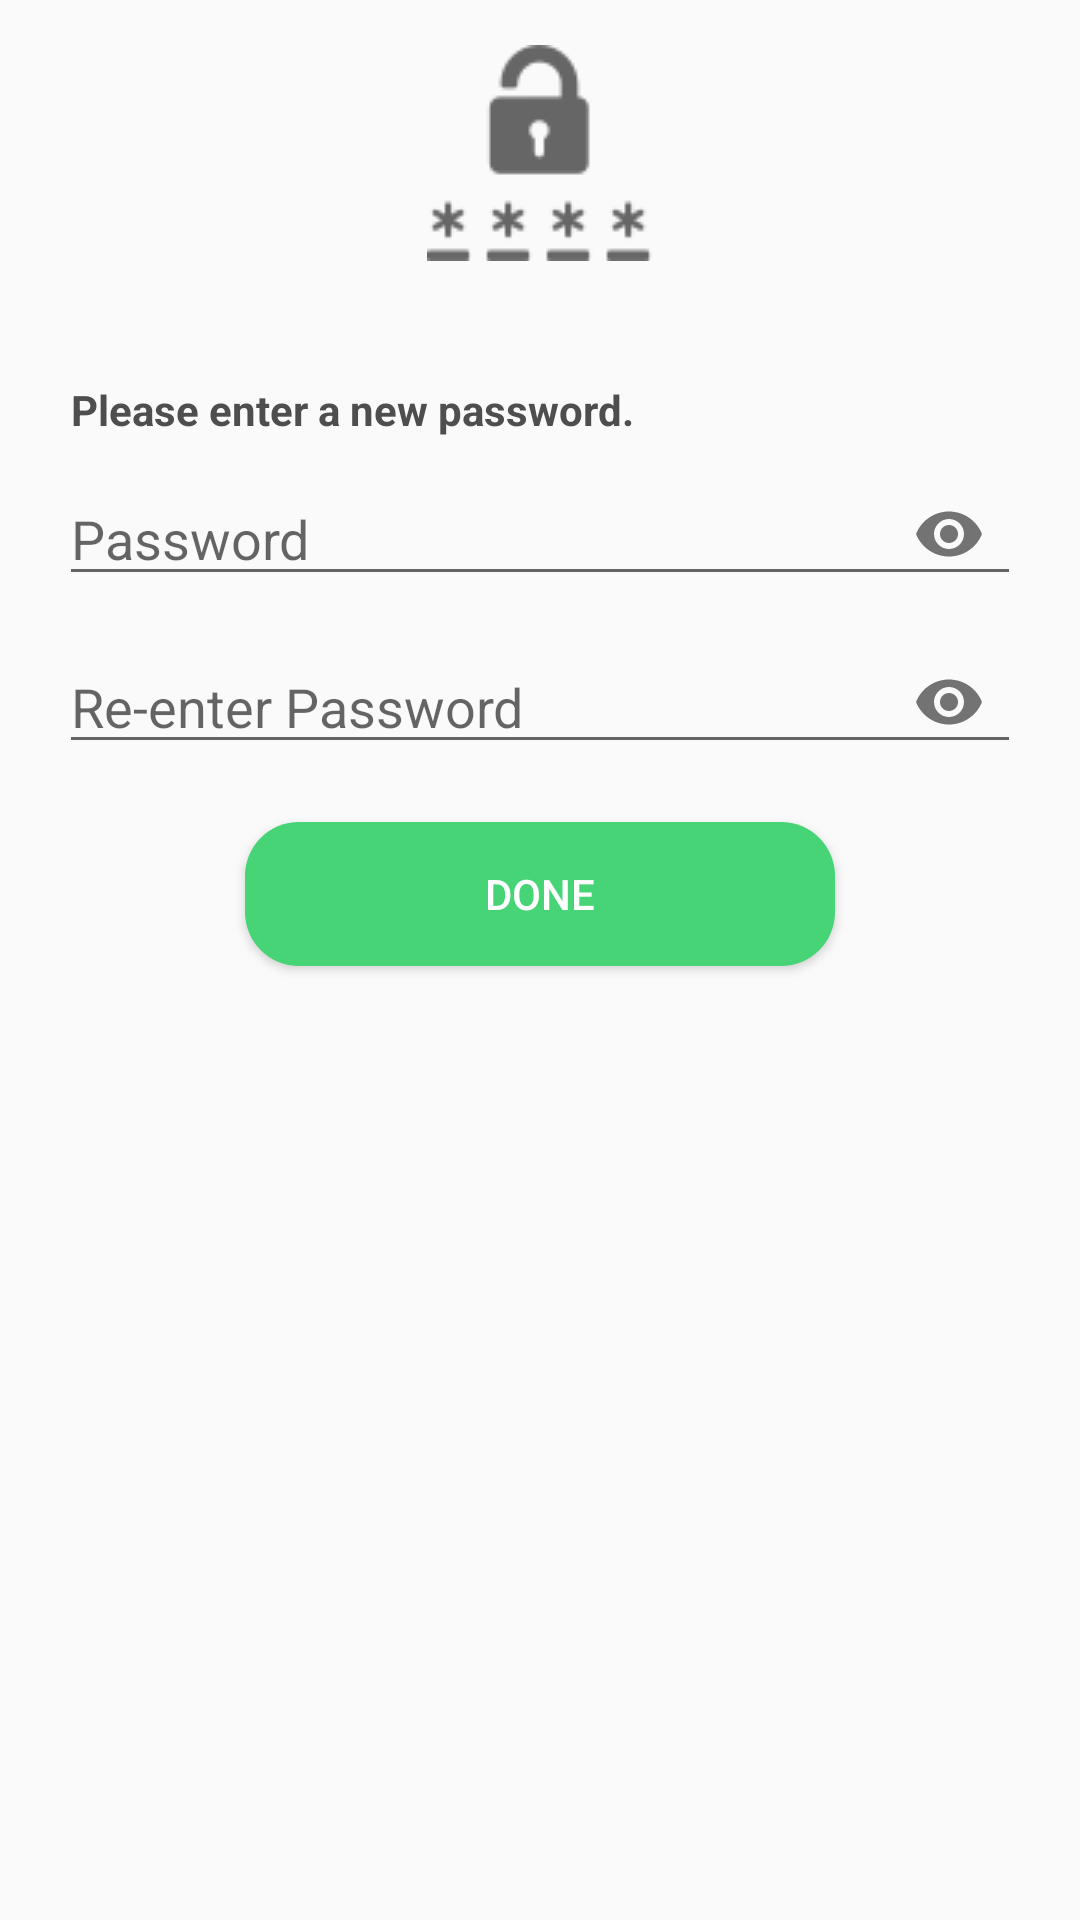

Icons on this 1080*1920 Android screen, each with the point to tap as point (x, y):
pwd lock: point (538, 153)
